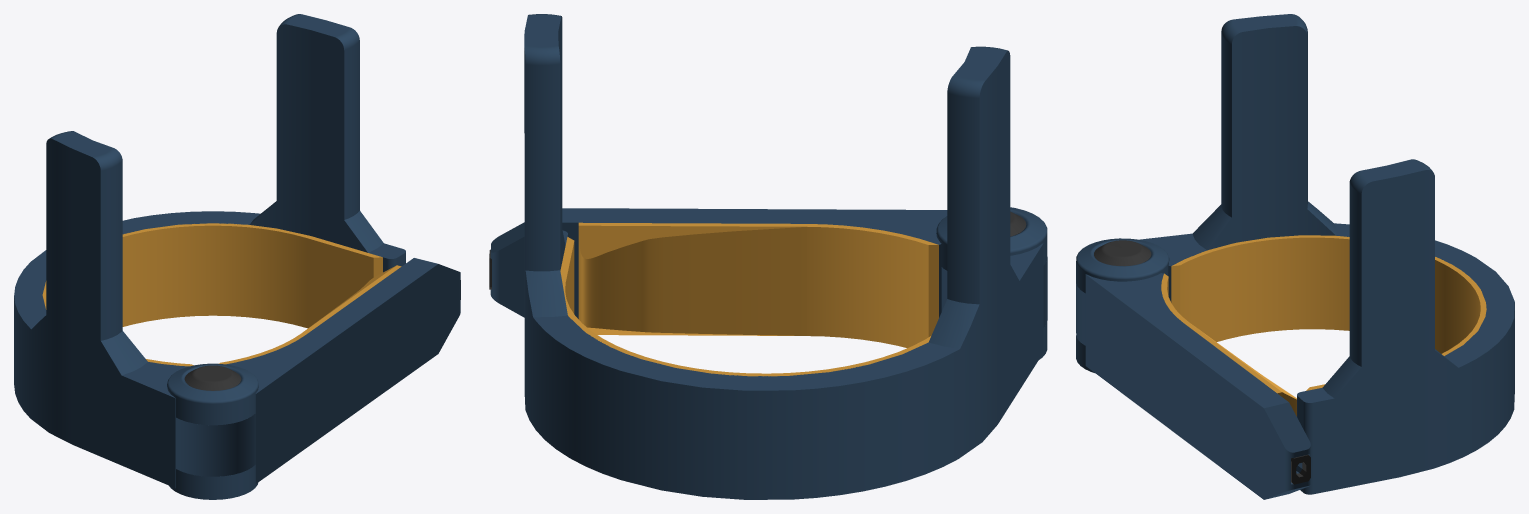
3 renders of one model, left to right at view 1: azimuth 30°, elevation 25°; view 2: azimuth 150°, elevation 25°; view 3: azimuth 270°, elevation 25°, orthographic. The views are drawn at different scales.
Visible parts, largest first — view 1: Stock-Vault Tool-003, Cut-Extrude002, Stock-Vault Tool-004, Stock-Vault Tool-002, Stock-Vault Tool-005; view 2: Stock-Vault Tool-003, Stock-Vault Tool-005, Cut-Extrude002, Stock-Vault Tool-004; view 3: Stock-Vault Tool-003, Cut-Extrude002, Stock-Vault Tool-004, Stock-Vault Tool-005, Stock-Vault Tool-002, Cut-Extrude003.
Part boxes in pixels (box(x1,y1,x2,y2)): Stock-Vault Tool-003: box(14, 14, 405, 499); Cut-Extrude002: box(176, 258, 460, 483); Stock-Vault Tool-004: box(42, 223, 382, 366); Stock-Vault Tool-002: box(184, 365, 241, 390); Stock-Vault Tool-005: box(219, 265, 401, 364); Stock-Vault Tool-003: box(524, 14, 1047, 499); Stock-Vault Tool-005: box(578, 222, 938, 347); Cut-Extrude002: box(490, 208, 1047, 327); Stock-Vault Tool-004: box(560, 237, 930, 376); Stock-Vault Tool-003: box(1076, 14, 1514, 494); Cut-Extrude002: box(1076, 273, 1310, 499); Stock-Vault Tool-004: box(1171, 235, 1486, 390); Stock-Vault Tool-005: box(1161, 273, 1296, 416); Stock-Vault Tool-002: box(1094, 240, 1151, 266); Cut-Extrude003: box(1291, 454, 1310, 484).
Size of the model in its own units: 0.1057 by 0.0752 by 0.0964.
